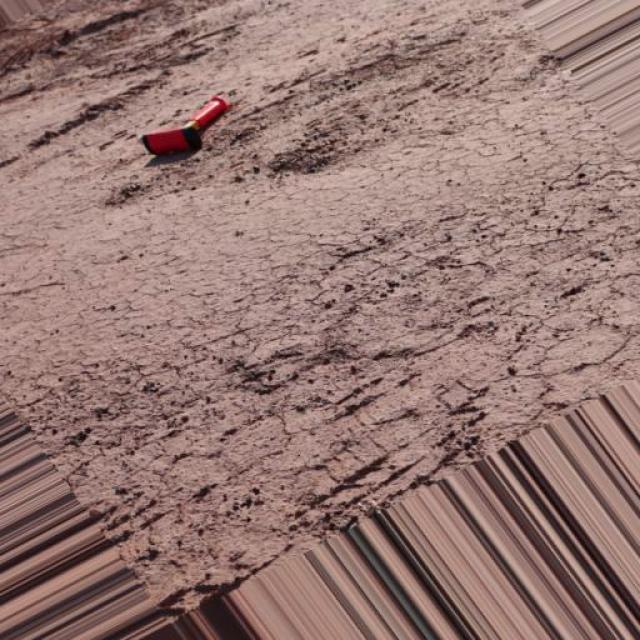mallet: (141, 92, 231, 156)
